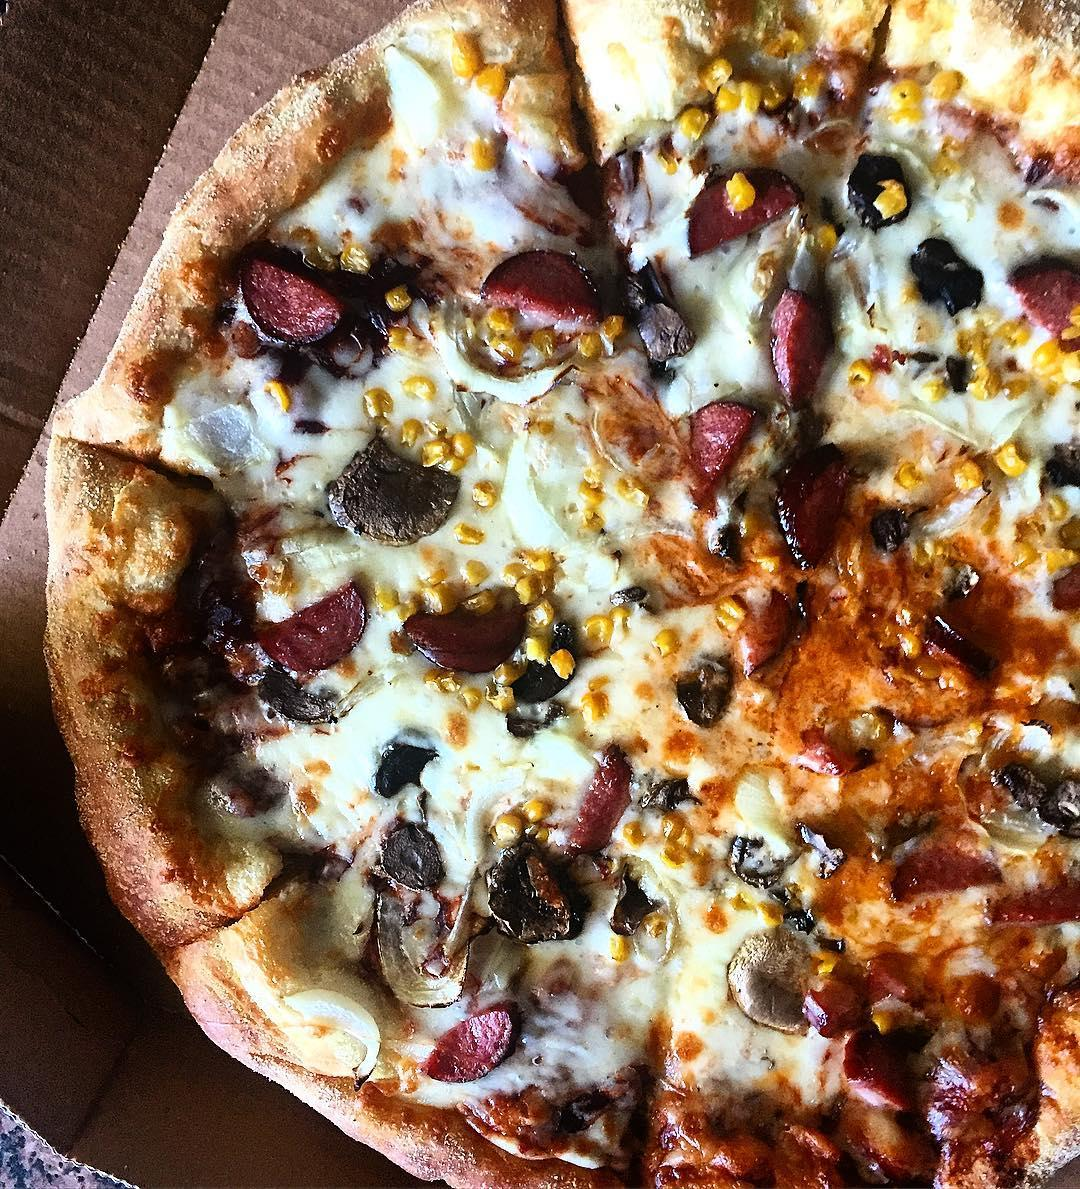Corn: (439, 24, 486, 84), (888, 76, 939, 122), (718, 170, 764, 215), (462, 130, 508, 175), (687, 51, 737, 90), (479, 803, 532, 840), (993, 435, 1035, 481), (931, 60, 968, 109), (808, 222, 850, 264), (659, 835, 700, 876), (381, 319, 422, 358), (763, 26, 806, 64), (894, 453, 930, 497), (260, 372, 295, 417), (851, 346, 881, 397), (356, 379, 396, 417), (871, 178, 911, 215), (956, 324, 992, 366), (714, 592, 753, 631), (970, 360, 1002, 406), (579, 687, 614, 728), (476, 60, 510, 103), (1037, 332, 1069, 377), (797, 57, 826, 106), (478, 301, 520, 335), (998, 315, 1033, 353), (403, 370, 442, 403), (648, 622, 683, 659), (486, 331, 521, 368), (421, 581, 457, 616), (440, 706, 473, 744), (602, 935, 642, 965), (756, 71, 789, 108), (952, 453, 982, 492), (1046, 539, 1080, 573), (577, 504, 611, 539), (679, 102, 711, 138), (1042, 487, 1073, 524), (524, 541, 561, 572), (583, 604, 609, 648), (462, 586, 500, 615), (421, 557, 455, 590), (713, 77, 743, 113), (487, 679, 523, 709), (1012, 538, 1045, 570), (579, 470, 611, 503), (624, 811, 655, 845), (738, 74, 763, 116), (922, 373, 958, 402), (456, 520, 493, 548), (385, 279, 413, 316), (459, 552, 491, 584), (449, 424, 480, 457), (519, 634, 553, 664), (433, 446, 468, 475), (616, 471, 648, 502), (658, 808, 691, 838), (512, 571, 546, 600), (532, 591, 561, 626), (422, 668, 456, 697), (606, 599, 634, 633), (1055, 309, 1080, 347), (554, 647, 579, 686), (374, 576, 399, 613), (467, 479, 500, 506), (576, 335, 610, 361), (419, 435, 449, 465), (519, 798, 555, 822), (389, 589, 418, 620), (457, 683, 486, 713), (602, 307, 627, 340), (500, 555, 529, 584), (399, 414, 427, 444), (532, 336, 561, 364), (526, 818, 557, 844), (493, 660, 522, 685)
Ham: (395, 585, 534, 682), (227, 242, 346, 354), (255, 581, 378, 679), (478, 241, 603, 336), (677, 160, 815, 242), (772, 432, 846, 577), (879, 832, 1008, 906), (767, 279, 835, 411), (912, 614, 1003, 691), (1002, 253, 1080, 342), (849, 1022, 920, 1118), (728, 582, 795, 677), (988, 872, 1080, 939), (689, 387, 751, 486), (443, 1014, 519, 1084), (798, 726, 877, 791), (584, 758, 630, 858), (1039, 567, 1080, 627)
Mushroom: (718, 887, 846, 1038), (361, 875, 478, 1019), (326, 432, 463, 547), (481, 817, 581, 943), (318, 259, 425, 373), (238, 659, 380, 729), (897, 234, 1003, 318), (839, 143, 926, 245), (625, 266, 697, 381), (186, 539, 257, 655), (992, 751, 1080, 843), (372, 805, 450, 890), (362, 722, 442, 801), (513, 614, 584, 696), (637, 753, 704, 825), (722, 814, 784, 892), (674, 651, 733, 730), (793, 807, 851, 887), (498, 693, 579, 749), (604, 868, 668, 936), (862, 493, 925, 560), (1037, 431, 1080, 504)
Pizza: (53, 0, 1080, 1189)
